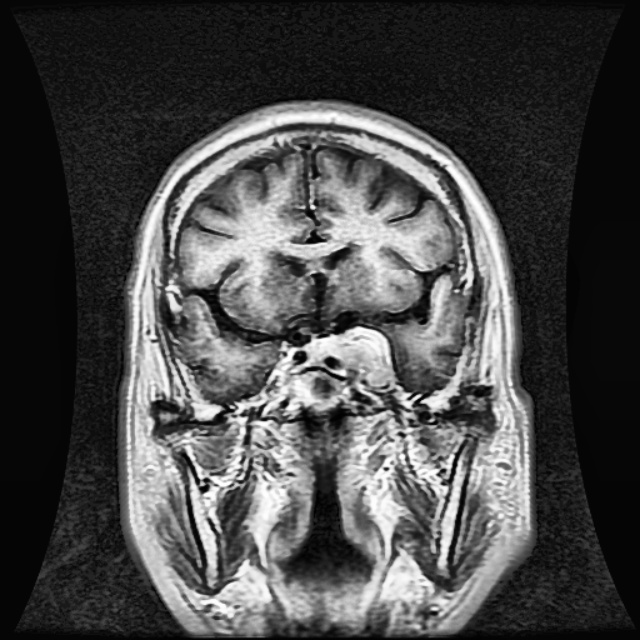Glioma: (278, 328, 394, 389)
